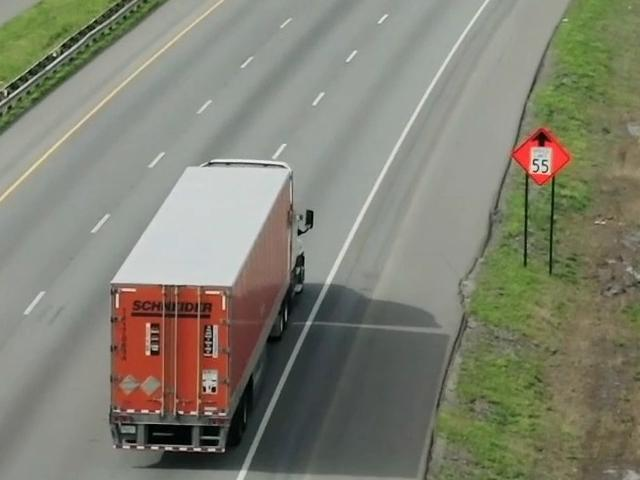truck: (98, 142, 320, 466)
